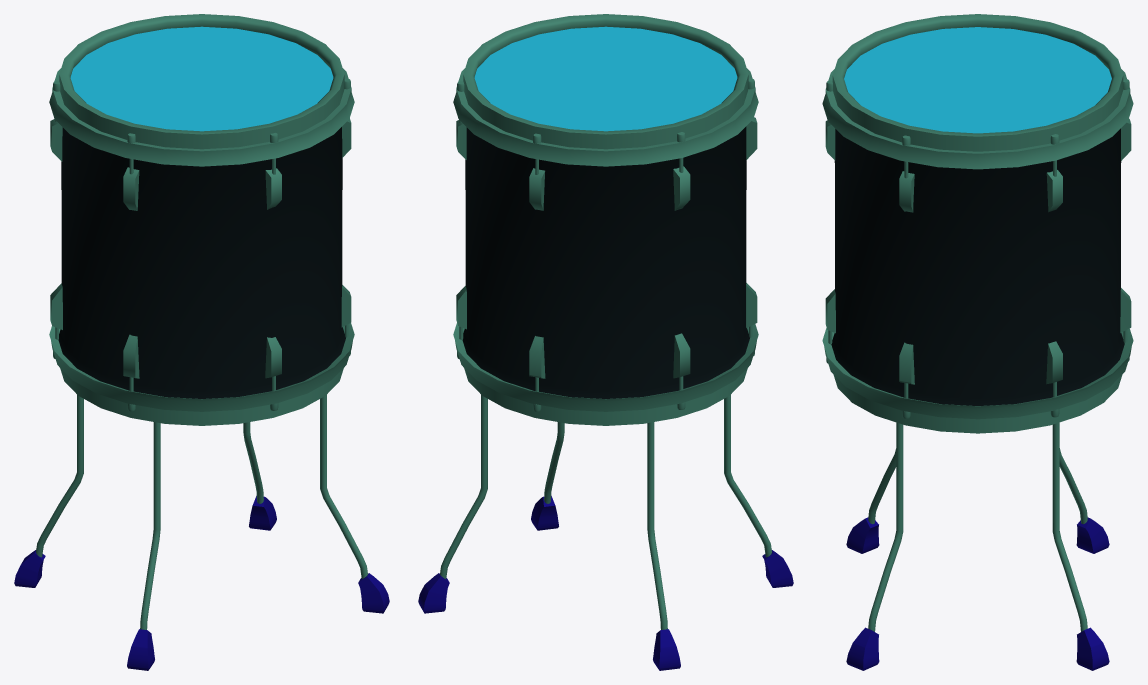
Rendered from floor_tom_FBX_Unreal.fbx.
3 views of the same model, side by side, from view 1: azimuth 30°, elevation 25°; view 2: azimuth 150°, elevation 25°; view 3: azimuth 270°, elevation 25° (orthographic).
Parts seen in each view (by area): view 1: timpano_LOW; view 2: timpano_LOW; view 3: timpano_LOW.
Part boxes in pixels (x1=…): timpano_LOW: x1=14, y1=14, x2=389, y2=670; timpano_LOW: x1=418, y1=14, x2=793, y2=670; timpano_LOW: x1=822, y1=14, x2=1133, y2=670.
Size of the model in its own units: 41.51 by 78.15 by 41.51.
